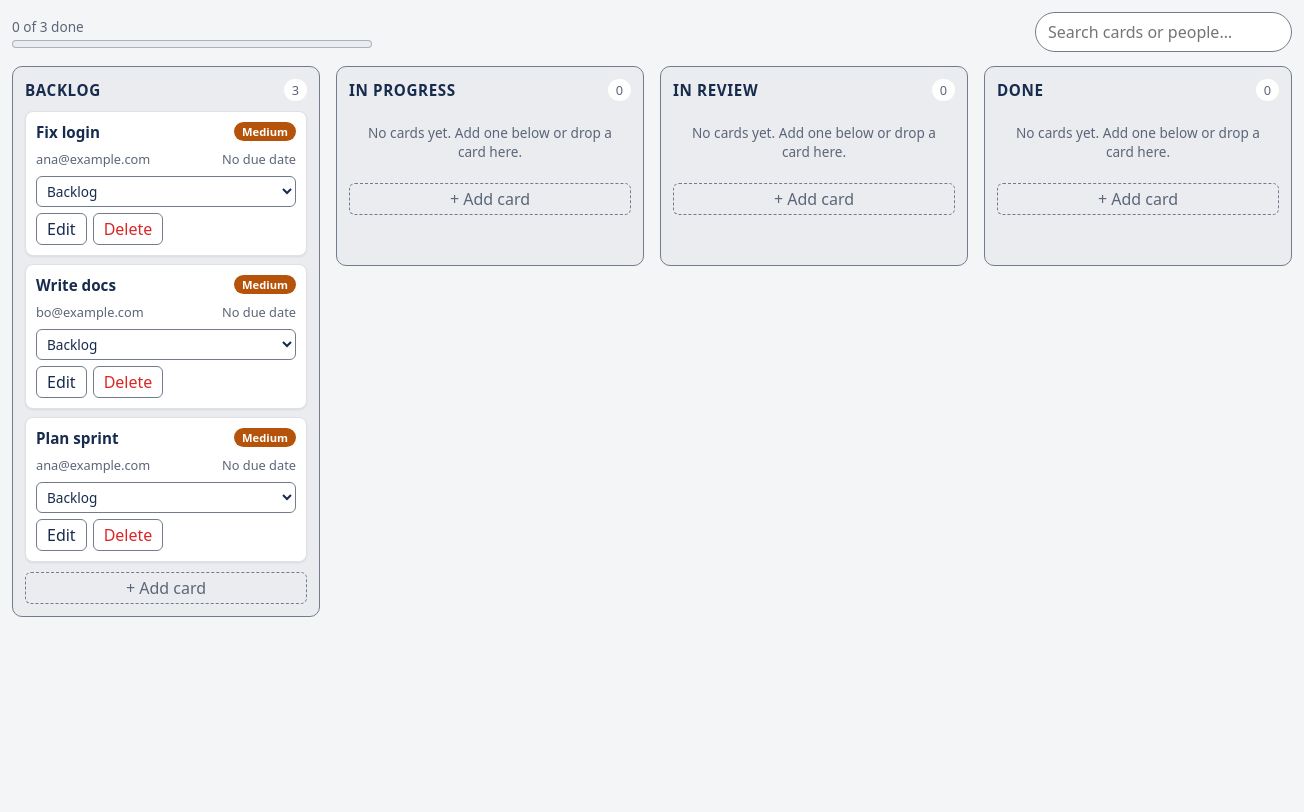
Test: searching › filters cards by title or assignee and announces how many match
In the search field labelled "Search cards": (1164, 32) 1035,12 -> 1292,52, type "ana"
Wait 600 ms
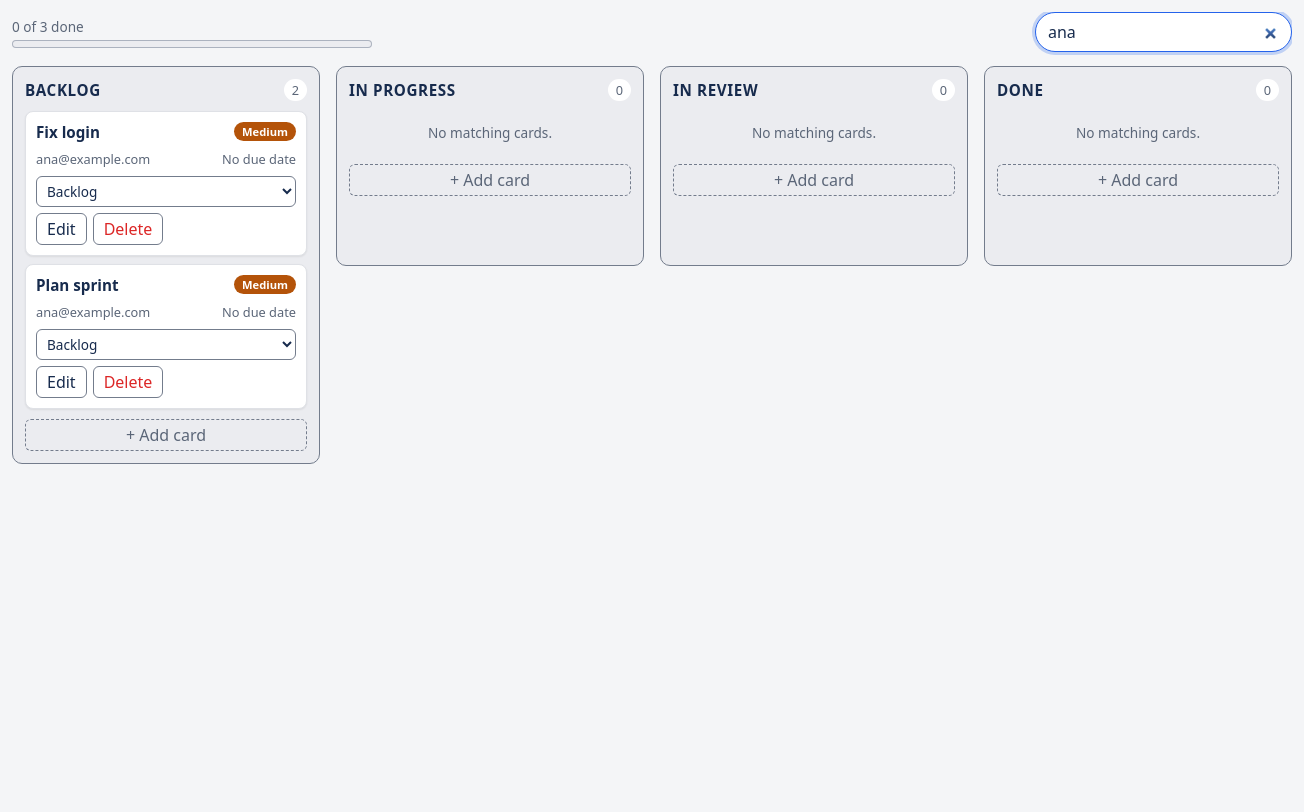
Expected: the heading "Fix login" is shown, 36,122 -> 100,142
Result: the heading "Write docs" is gone
